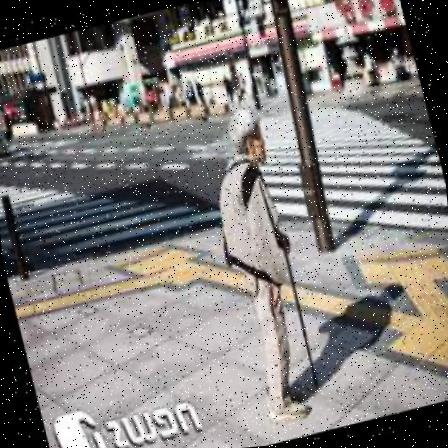silver: (190, 102, 332, 434)
